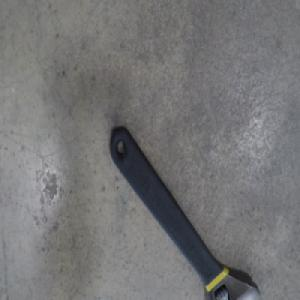AdjustableWrench: (109, 127, 263, 300)
